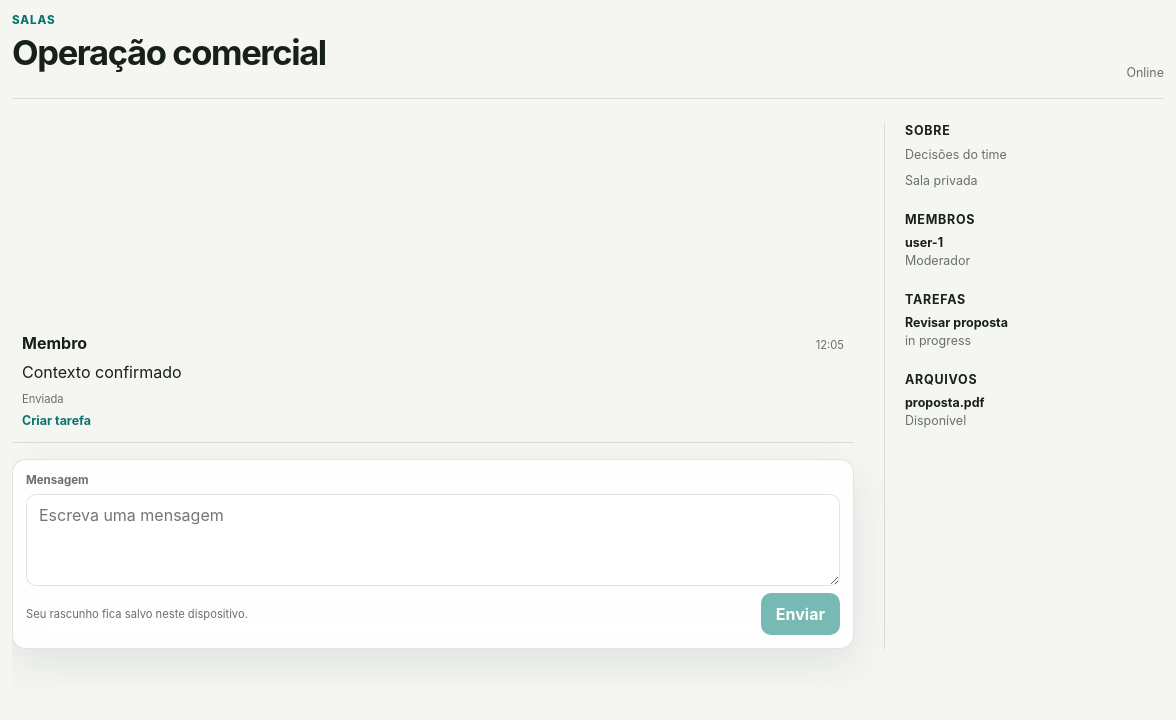
Test: ConversationsWorkspace › preserves the room draft and prevents sending while offline
The width and height of the screenshot is (1176, 720).
Expected: the text "Contexto confirmado" is shown, [22, 362, 182, 382]
Type "Continuar depois" into the text box labelled "Mensagem" at (433, 540), box [26, 494, 840, 586]
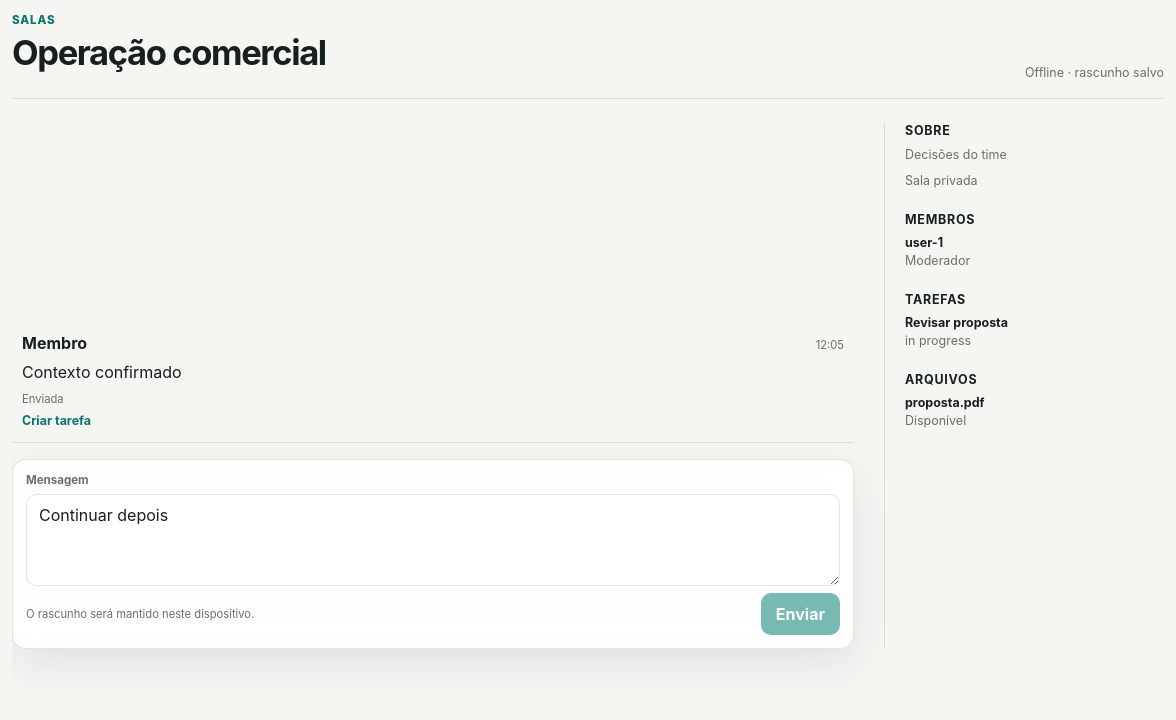
Expected: the button "Enviar" is disabled, [761, 593, 840, 635]
Now the text "Offline · rascunho salvo" is shown, box [1025, 65, 1164, 80]
